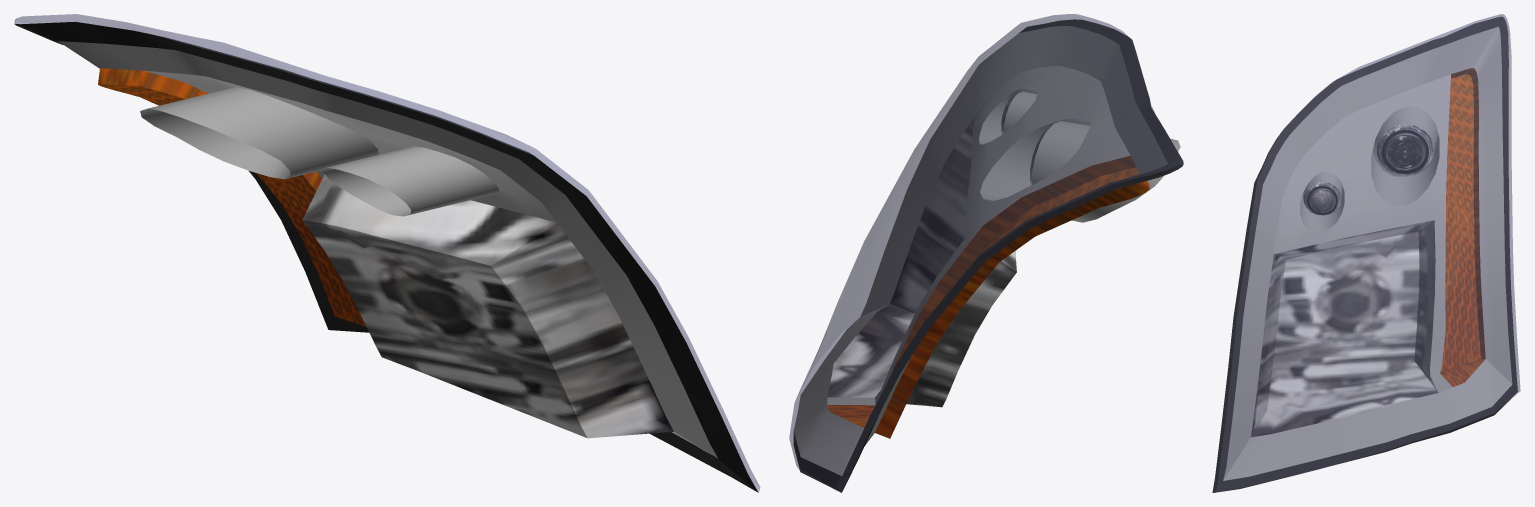
3 renders of one model, left to right at view 1: azimuth 30°, elevation 25°; view 2: azimuth 150°, elevation 25°; view 3: azimuth 270°, elevation 25°, orthographic. The views are drawn at different scales.
Visible parts, largest first — view 1: Z177_061B_L_Z177_061B_L_3_N, Z177_061B_L_1_N_Z177_061B_L, Z177_061B_L_Z177_061B_L_2_D, Z177_061B_L_Z177_061B_L_7_DTaSI, Z177_061B_L_Z177_061B_L_6_N; view 2: Z177_061B_L_Z177_061B_L_7_DTaSI, Z177_061B_L_1_N_Z177_061B_L, Z177_061B_L_Z177_061B_L_3_N, Z177_061B_L_Z177_061B_L_6_N, Z177_061B_L_Z177_061B_L_2_D; view 3: Z177_061B_L_Z177_061B_L_7_DTaSI, Z177_061B_L_1_N_Z177_061B_L, Z177_061B_L_Z177_061B_L_3_N, Z177_061B_L_Z177_061B_L_2_D, Z177_061B_L_Z177_061B_L_6_N, Z177_061B_L_Z177_061B_L_5_N, Z177_061B_L_Z177_061B_L_4_N.
Part boxes in pixels (<box>): Z177_061B_L_Z177_061B_L_3_N: <box>302,174,673,438</box>; Z177_061B_L_1_N_Z177_061B_L: <box>58,41,717,458</box>; Z177_061B_L_Z177_061B_L_2_D: <box>15,21,758,492</box>; Z177_061B_L_Z177_061B_L_7_DTaSI: <box>14,14,760,492</box>; Z177_061B_L_Z177_061B_L_6_N: <box>98,68,366,326</box>; Z177_061B_L_Z177_061B_L_7_DTaSI: <box>789,14,1183,492</box>; Z177_061B_L_1_N_Z177_061B_L: <box>794,26,1180,475</box>; Z177_061B_L_Z177_061B_L_3_N: <box>827,117,1016,407</box>; Z177_061B_L_Z177_061B_L_6_N: <box>827,156,1149,438</box>; Z177_061B_L_Z177_061B_L_2_D: <box>793,19,1183,492</box>; Z177_061B_L_Z177_061B_L_7_DTaSI: <box>1212,14,1520,492</box>; Z177_061B_L_1_N_Z177_061B_L: <box>1223,27,1512,480</box>; Z177_061B_L_Z177_061B_L_3_N: <box>1251,220,1437,437</box>; Z177_061B_L_Z177_061B_L_2_D: <box>1212,16,1517,492</box>; Z177_061B_L_Z177_061B_L_6_N: <box>1440,68,1485,386</box>; Z177_061B_L_Z177_061B_L_5_N: <box>1377,124,1433,176</box>; Z177_061B_L_Z177_061B_L_4_N: <box>1303,181,1340,215</box>.
Size of the model in its own units: 39.65 by 32.33 by 29.12.
